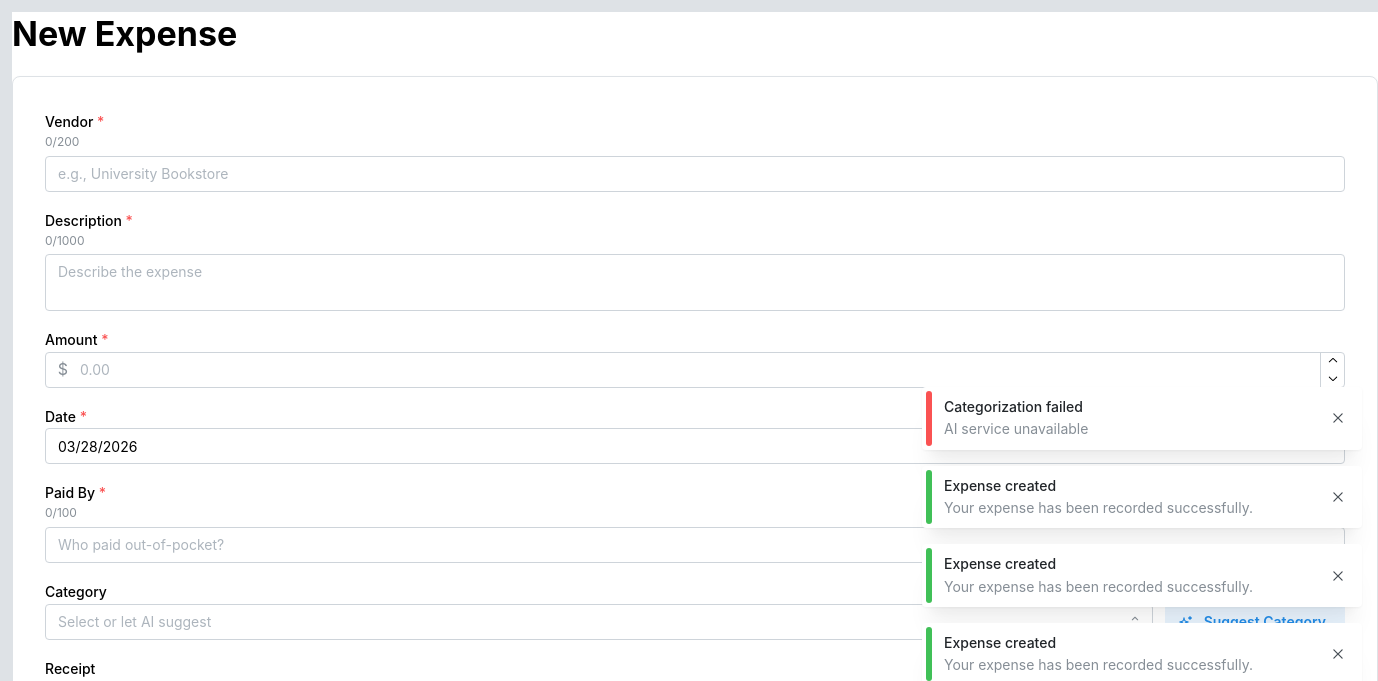
it: Character limits (#80) › Character counters › updates description counter as user types
The width and height of the screenshot is (1378, 681).
Type "Test description" into the text box labelled "Description *" at (695, 283), box [45,254,1345,311]
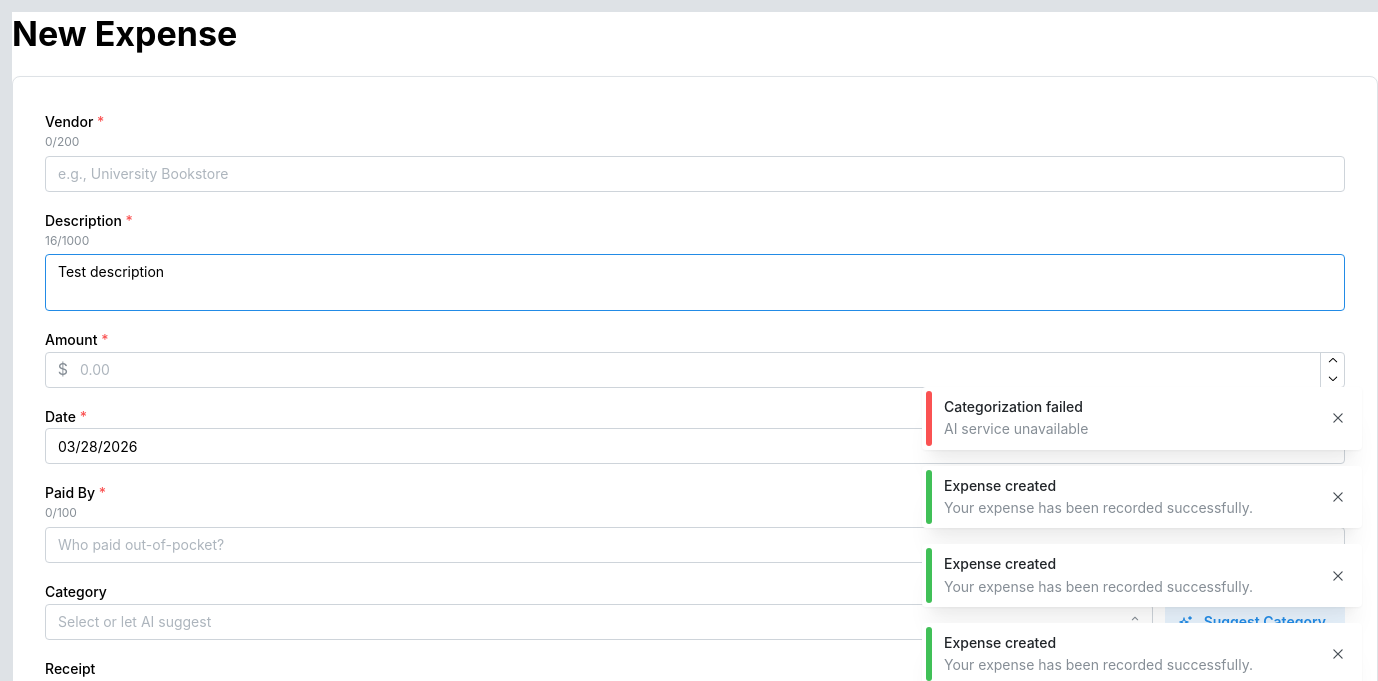
Now the text "16/1000" is shown, box [45,233,89,248]
